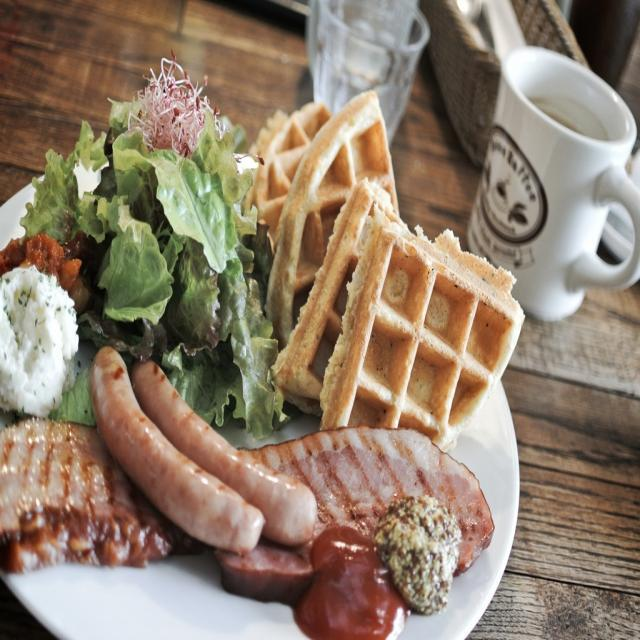Waffle: (244, 88, 526, 452), (317, 207, 525, 448), (264, 85, 402, 349), (271, 178, 407, 421), (242, 107, 327, 252)
